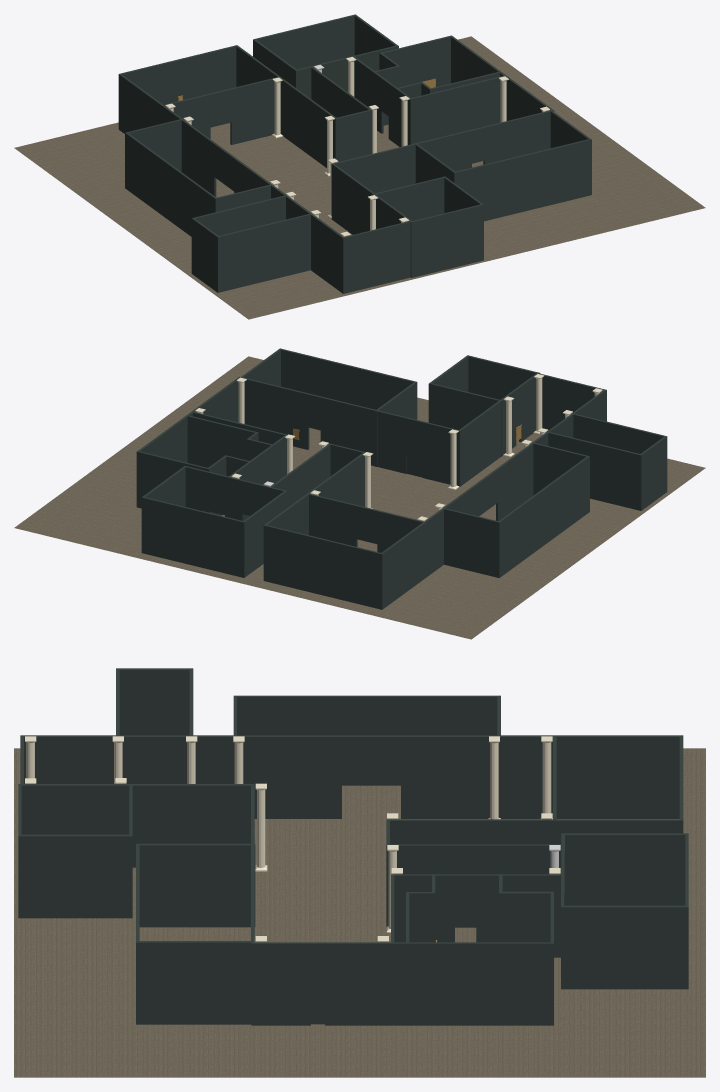
The model's file is FINALFINALWALLS.glb.
3 views of the same model, one above another, from view 1: azimuth 30°, elevation 25°; view 2: azimuth 150°, elevation 25°; view 3: azimuth 270°, elevation 25° (orthographic). The views are drawn at different scales.
Parts seen in each view (by area): view 1: Room, floor, Room.017, Room.014, Room.015, Room.012, Room.001, Room.011, Room.018, Room.013; view 2: Room, floor, Room.001, Room.015, Room.017, Room.014, Room.011, Room.018, Room.013, Room.012; view 3: Room, floor, Room.011, Room.001, Room.015, Room.014, Room.012, Room.017, Room.013, Cube.008, Cube.015, Cube.014.
Part boxes in pixels (box(x1,y1,x2,y2)): Room: box(118, 45, 591, 293); floor: box(14, 36, 705, 319); Room.017: box(191, 195, 310, 292); Room.014: box(372, 176, 483, 277); Room.015: box(125, 119, 270, 236); Room.012: box(353, 56, 504, 146); Room.001: box(253, 14, 398, 98); Room.011: box(374, 35, 554, 125); Room.018: box(164, 77, 277, 144); Room.013: box(398, 72, 499, 97); Room: box(241, 348, 606, 609); floor: box(14, 356, 705, 639); Room.001: box(141, 466, 287, 577); Room.015: box(444, 442, 589, 577); Room.017: box(548, 413, 667, 510); Room.014: box(428, 355, 540, 456); Room.011: box(136, 376, 249, 515); Room.018: box(309, 493, 423, 552); Room.013: box(187, 415, 271, 467); Room.012: box(193, 412, 287, 520); Room: box(20, 735, 683, 1024); floor: box(14, 748, 705, 1077); Room.011: box(251, 875, 553, 1025); Room.001: box(561, 833, 688, 989); Room.015: box(233, 695, 500, 735); Room.014: box(18, 784, 132, 918); Room.012: box(391, 874, 564, 957); Room.017: box(116, 668, 193, 735); Room.013: box(406, 875, 435, 942); Cube.008: box(255, 783, 267, 871); Cube.015: box(540, 736, 552, 819); Cube.014: box(488, 736, 500, 819).
Size of what is drawn, in the model's own units: 55.09 by 6.55 by 48.93.
Materials: 7 (1 with a texture image).
